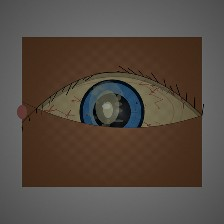corneal_ulcer: (80, 85, 135, 129)
